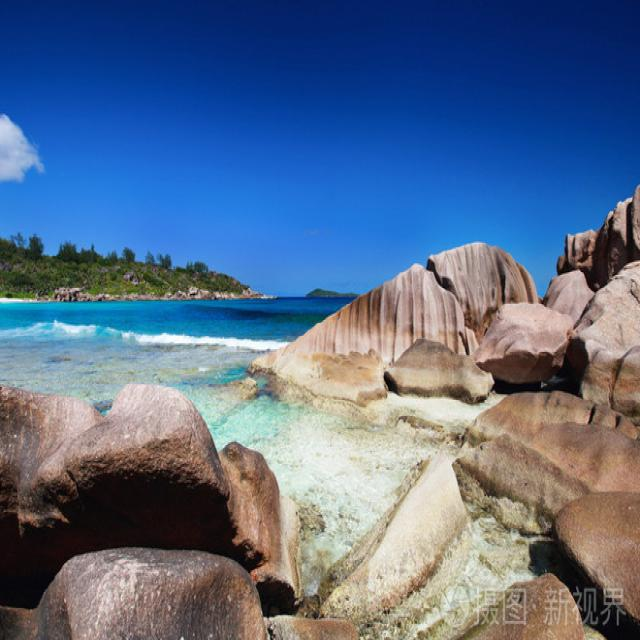island: (0, 221, 268, 314)
